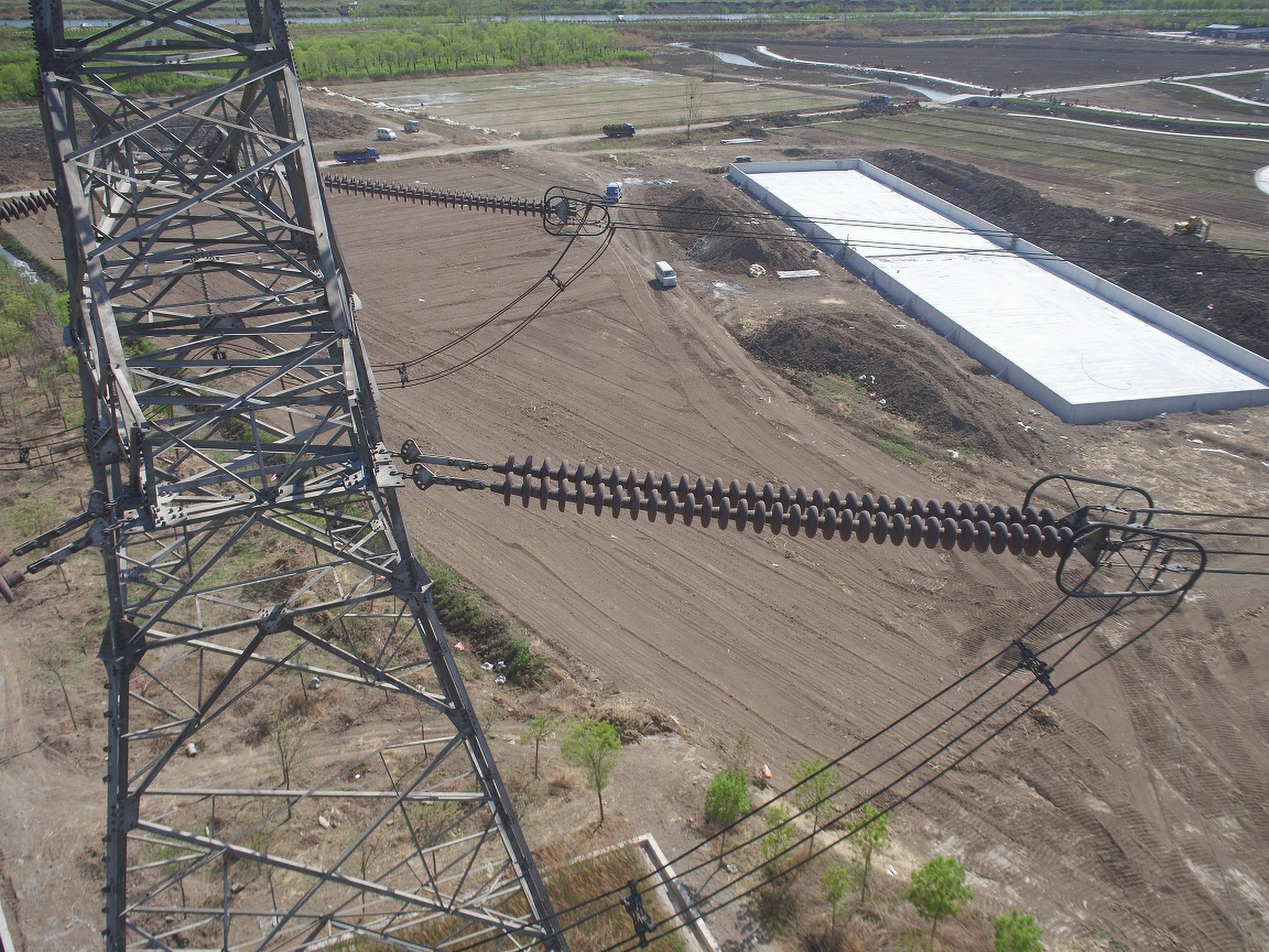insulator: (498, 450, 1078, 562), (322, 170, 554, 220), (1, 184, 58, 228)
